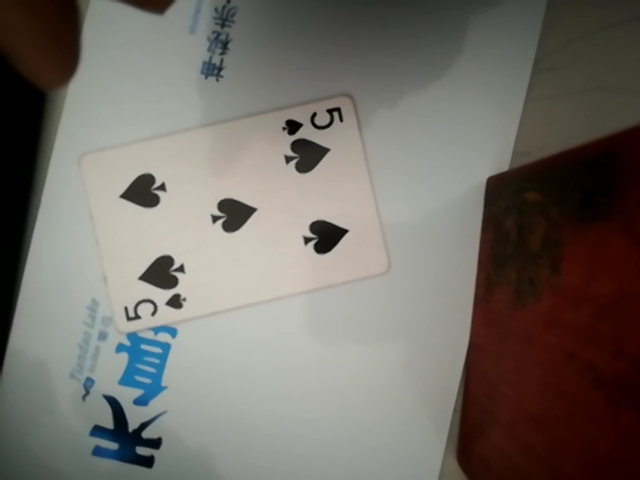ht 5: (88, 93, 385, 336)
